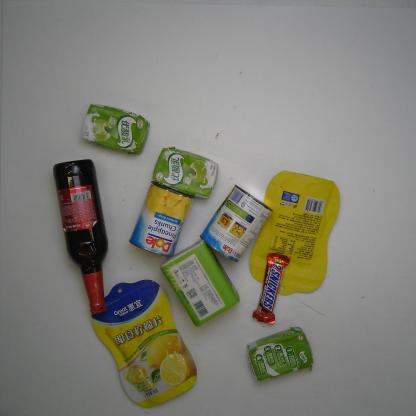Alcohol: (53, 159, 109, 315)
Canned Food: (199, 183, 273, 264), (128, 180, 194, 258)
Chocolate: (252, 252, 291, 325)
Dried Fruit: (91, 278, 197, 408), (249, 169, 340, 296)
Milk: (246, 326, 314, 382), (81, 102, 150, 155), (152, 146, 219, 200)
Tissue: (159, 238, 240, 328)
